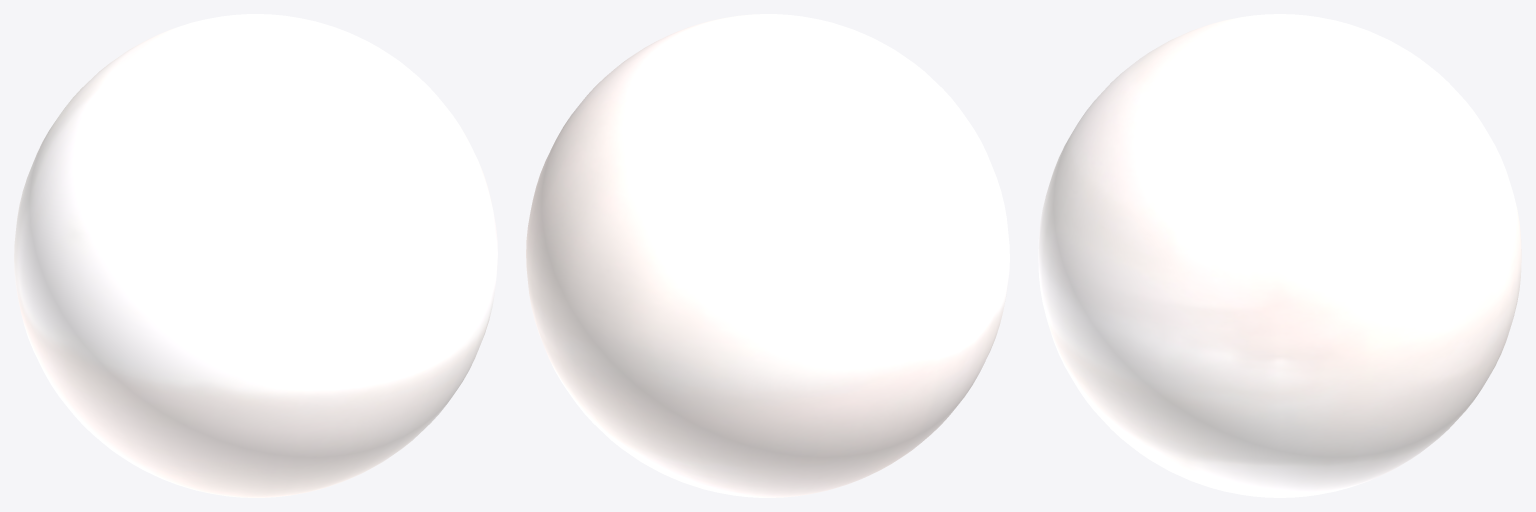
The model's file is pearl3.gltf.
The picture shows the model from 3 angles, left to right: view 1: azimuth 30°, elevation 25°; view 2: azimuth 150°, elevation 25°; view 3: azimuth 270°, elevation 25°; orthographic projection.
Parts seen in each view (by area): view 1: Sphere; view 2: Sphere; view 3: Sphere.
Boxes of the visible parts, left/top/right/bottom form: Sphere: left=14, top=14, right=497, bottom=497; Sphere: left=526, top=14, right=1009, bottom=497; Sphere: left=1038, top=14, right=1521, bottom=497.
Size of the model in its own units: 2.54 by 2.54 by 2.53.
Materials: 1 (1 with a texture image).
